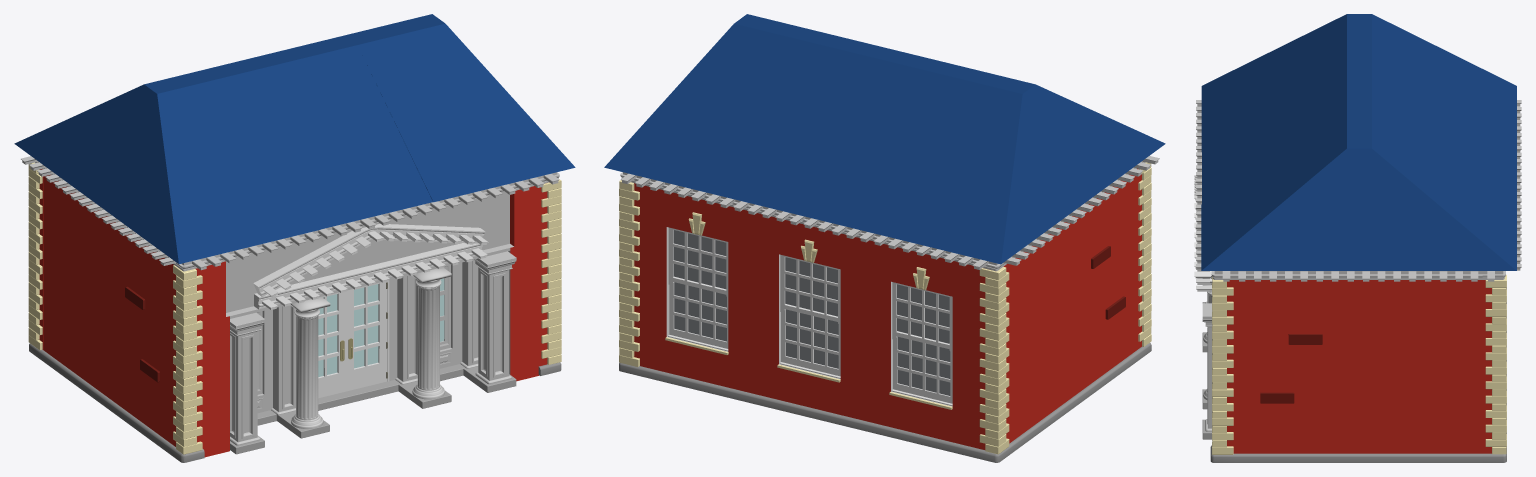
Rendered from HistoriaLevel1.fbx.
3 renders of one model, left to right at view 1: azimuth 30°, elevation 25°; view 2: azimuth 150°, elevation 25°; view 3: azimuth 270°, elevation 25°, orthographic. The views are drawn at different scales.
Parts seen in each view (by area): view 1: TelhadoCantoBase.021, ParedePortaJanela.002, ParedeLisaRodape.005, TelhadoCantoBase.023, TelhadoMeioBase.012, PilastraQuadradaInteira.002, TelhadoCantoBase.020, PilastraQuadradaMetade.002, PilastraRedonda.002, PilastraTijoloRodape.013, PortaComVidro.003, TetoParedeDetalhe.030 (+12 smaller); view 2: ParedeJanelaRodape.011, TelhadoCantoBase.020, ParedeLisaRodape.005, TelhadoCantoBase.022, TelhadoMeioBase.013, CortinaJanelaRodape.011, JanelaMediaRodape.011, TelhadoCantoBase.021, PilastraTijoloRodape.015, RodapeMeio.017, PilastraTijoloRodape.016, TetoParedeDetalhe.033 (+8 smaller); view 3: ParedeLisaRodape.006, TelhadoCantoBase.023, TelhadoCantoBase.022, TelhadoCantoBase.021, TelhadoCantoBase.020, TelhadoMeioBase.013, TelhadoMeioBase.012, PilastraTijoloRodape.014, PilastraTijoloRodape.016, RodapeMeio.021, TetoParedeDetalhe.031, ParedeCanto.016 (+6 smaller).
Part boxes in pixels (x1,y1,x2,y2): TelhadoCantoBase.021: [97, 68, 320, 264]; ParedePortaJanela.002: [201, 186, 539, 457]; ParedeLisaRodape.005: [44, 174, 172, 444]; TelhadoCantoBase.023: [351, 19, 575, 202]; TelhadoMeioBase.012: [239, 40, 432, 229]; PilastraQuadradaInteira.002: [230, 251, 516, 445]; TelhadoCantoBase.020: [14, 63, 238, 203]; PilastraQuadradaMetade.002: [271, 259, 478, 415]; PilastraRedonda.002: [290, 268, 451, 428]; PilastraTijoloRodape.013: [173, 265, 202, 454]; PortaComVidro.003: [318, 282, 386, 398]; TetoParedeDetalhe.030: [253, 223, 488, 297]; ParedeJanelaRodape.011: [641, 185, 977, 448]; TelhadoCantoBase.020: [859, 67, 1083, 264]; ParedeLisaRodape.005: [1007, 174, 1136, 443]; TelhadoCantoBase.022: [604, 19, 828, 201]; TelhadoMeioBase.013: [746, 40, 940, 229]; CortinaJanelaRodape.011: [673, 230, 950, 395]; JanelaMediaRodape.011: [668, 227, 952, 406]; TelhadoCantoBase.021: [941, 63, 1165, 203]; PilastraTijoloRodape.015: [979, 267, 1009, 454]; RodapeMeio.017: [639, 366, 977, 457]; PilastraTijoloRodape.016: [619, 180, 639, 366]; TetoParedeDetalhe.033: [635, 177, 977, 266]; ParedeLisaRodape.006: [1235, 280, 1482, 453]; TelhadoCantoBase.023: [1201, 107, 1359, 270]; TelhadoCantoBase.022: [1359, 107, 1516, 270]; TelhadoCantoBase.021: [1201, 14, 1359, 151]; TelhadoCantoBase.020: [1359, 14, 1516, 151]; TelhadoMeioBase.013: [1359, 55, 1516, 204]; TelhadoMeioBase.012: [1202, 55, 1359, 203]; PilastraTijoloRodape.014: [1212, 277, 1233, 454]; PilastraTijoloRodape.016: [1485, 274, 1506, 454]; RodapeMeio.021: [1235, 453, 1482, 462]; TetoParedeDetalhe.031: [1235, 271, 1482, 281]; ParedeCanto.016: [1482, 280, 1491, 453].
Bounding box in the file's own units: 362 × 261 × 264.
